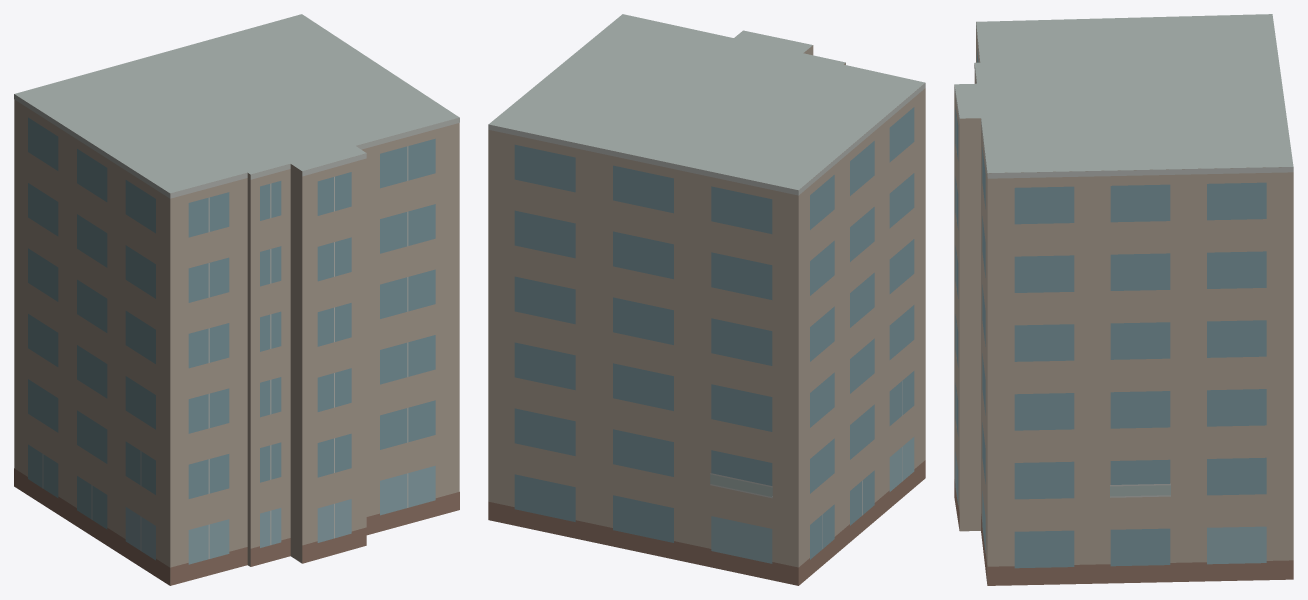
Rendered from survey-upis-32622334.glb.
3 views of the same model, side by side, from view 1: azimuth 30°, elevation 25°; view 2: azimuth 150°, elevation 25°; view 3: azimuth 270°, elevation 25° (orthographic). The views are drawn at different scales.
Visible parts, largest first — view 1: survey-upis-32622334.tmp; view 2: survey-upis-32622334.tmp; view 3: survey-upis-32622334.tmp.
Part boxes in pixels (x1,y1,x2,y2): survey-upis-32622334.tmp: (14,14,459,585); survey-upis-32622334.tmp: (488,14,925,585); survey-upis-32622334.tmp: (954,14,1293,585).
Size of the model in its own units: 15.02 by 18.15 by 13.53.
